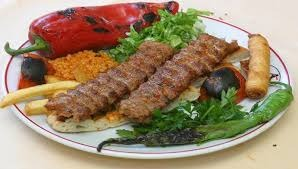kebap: (118, 34, 237, 121), (46, 41, 173, 120)
